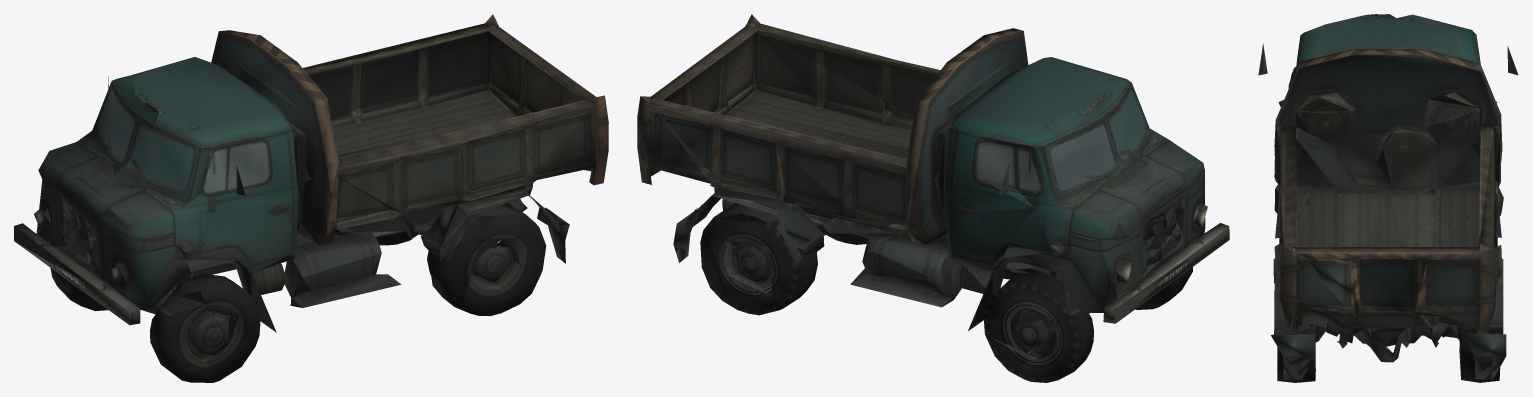
File: Meshy_AI_a_run_down_truck_that_0822235311_texture.obj
The picture shows the model from 3 angles, left to right: view 1: azimuth 30°, elevation 25°; view 2: azimuth 150°, elevation 25°; view 3: azimuth 270°, elevation 25°; orthographic projection. The views are drawn at different scales.
Parts seen in each view (by area): view 1: Meshy_AI_a_run_down_truck_that_0822235311_texture; view 2: Meshy_AI_a_run_down_truck_that_0822235311_texture; view 3: Meshy_AI_a_run_down_truck_that_0822235311_texture.
Part boxes in pixels (x1=…): Meshy_AI_a_run_down_truck_that_0822235311_texture: x1=14, y1=14, x2=608, y2=382; Meshy_AI_a_run_down_truck_that_0822235311_texture: x1=637, y1=14, x2=1229, y2=382; Meshy_AI_a_run_down_truck_that_0822235311_texture: x1=1258, y1=14, x2=1518, y2=382.
Bounding box in the file's own units: 1.9 × 0.9896 × 0.937.
